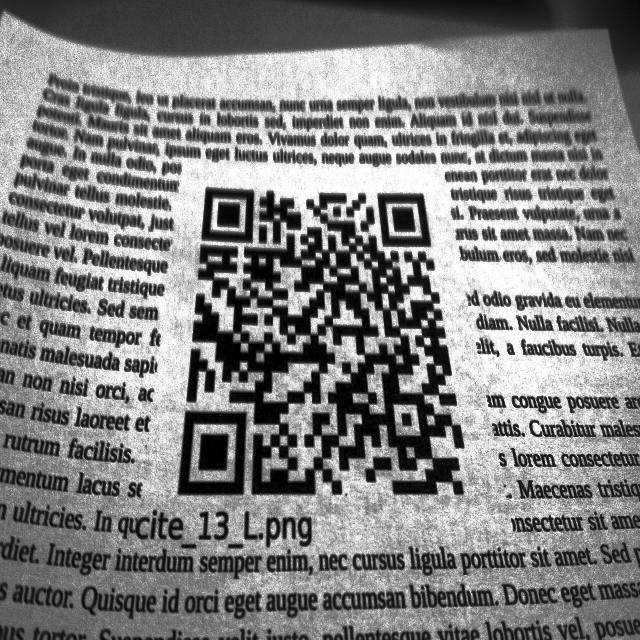qr_code: (179, 186, 464, 496)
